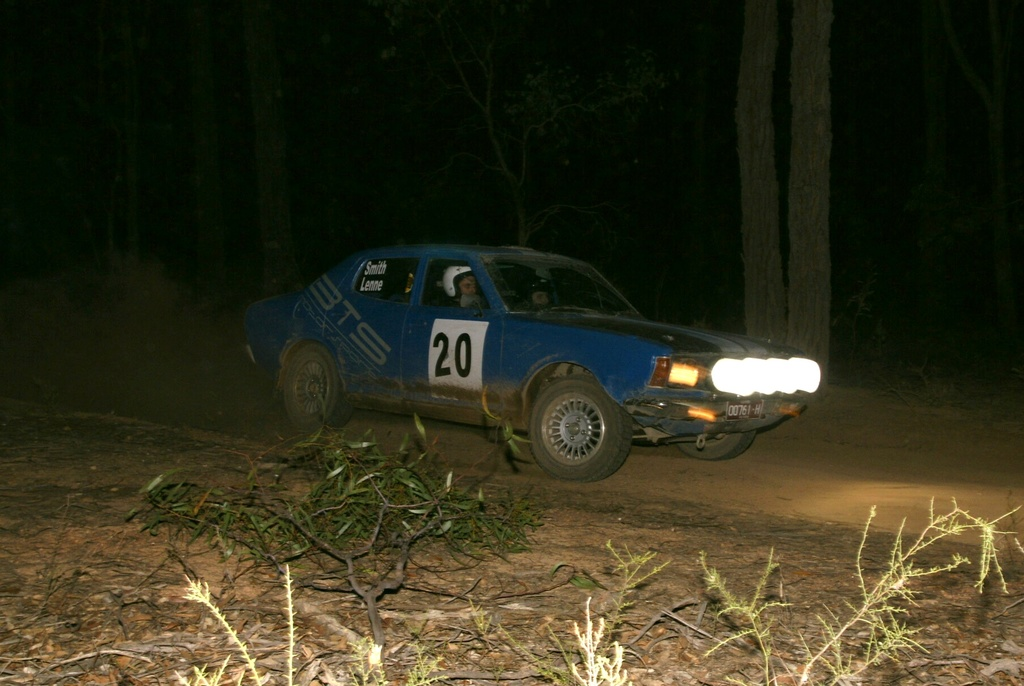Car: (242, 242, 820, 482)
